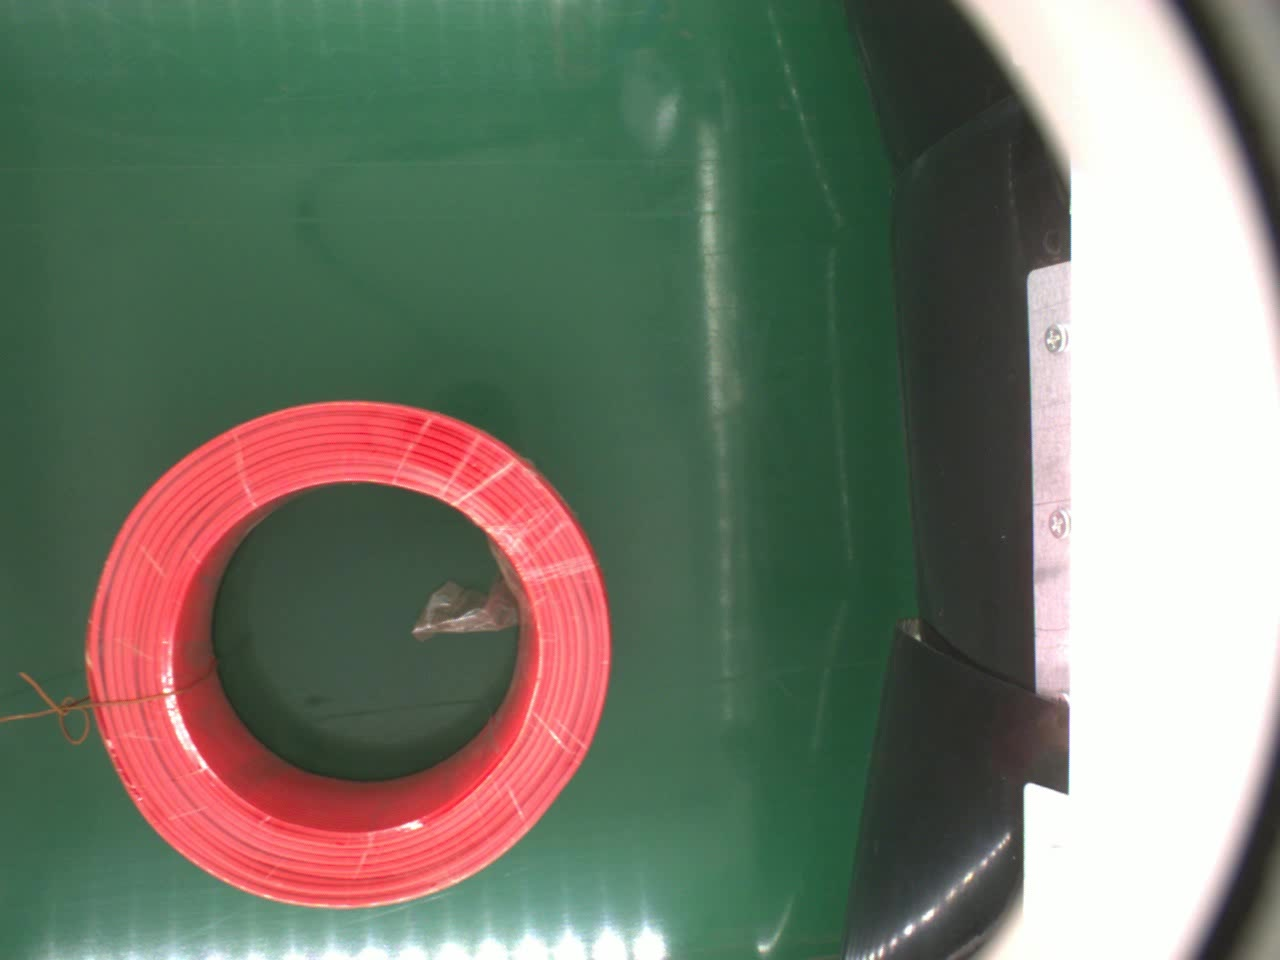red: (79, 395, 614, 913)
